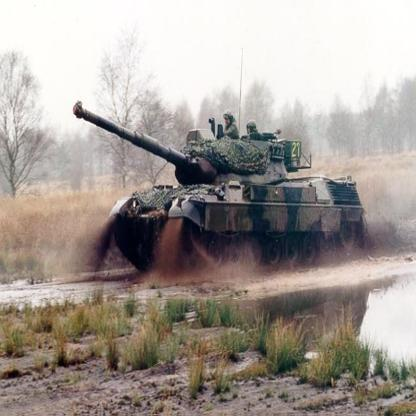Tank: (66, 91, 382, 278)
